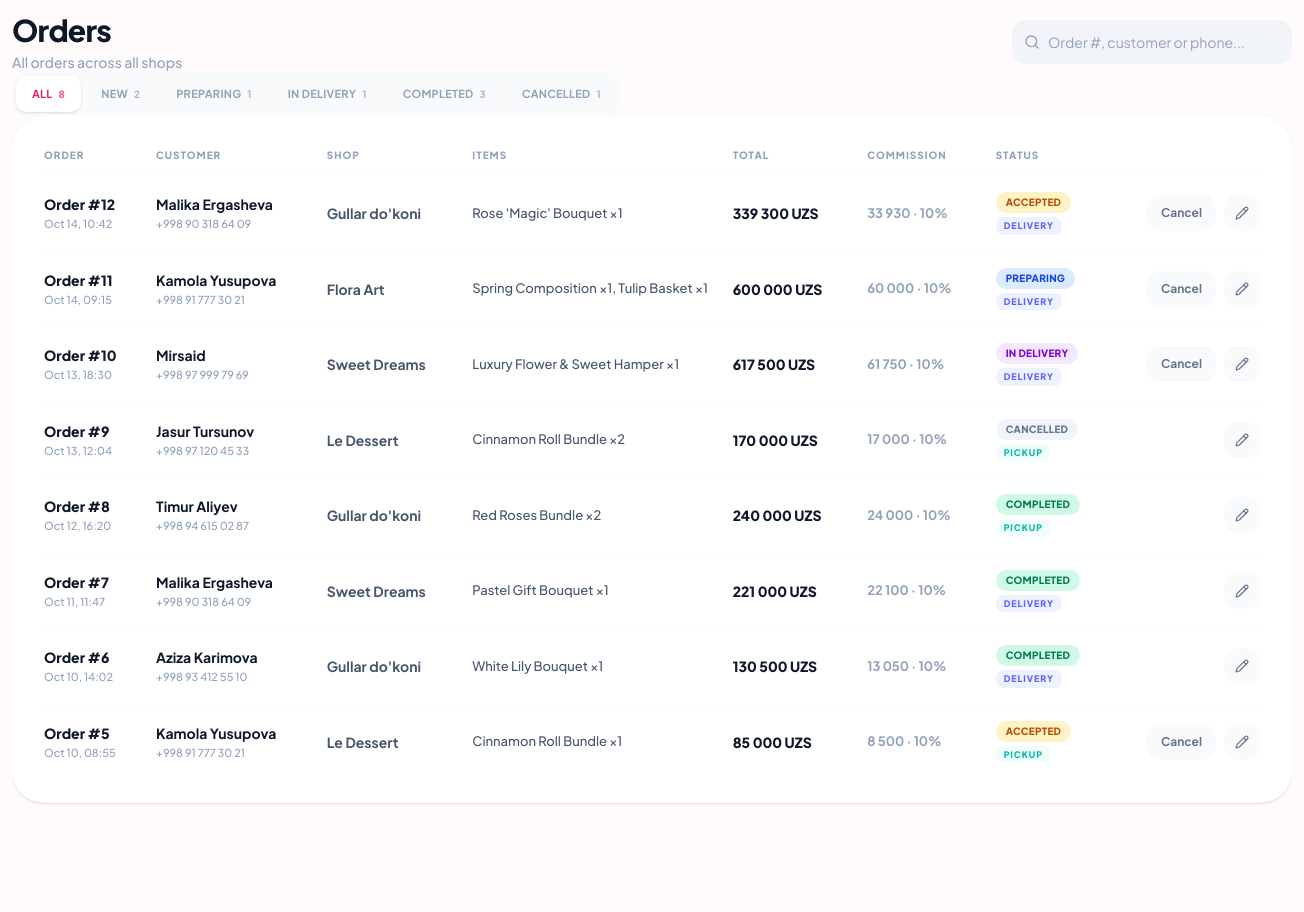
OrdersPage › searches by customer phone and filters by status tab
Expected: the text "Order #12" is shown, [44,195,115,213]
In the search field named "Search orders": (1152, 42) [1012,20,1292,64], type "777 30 21"
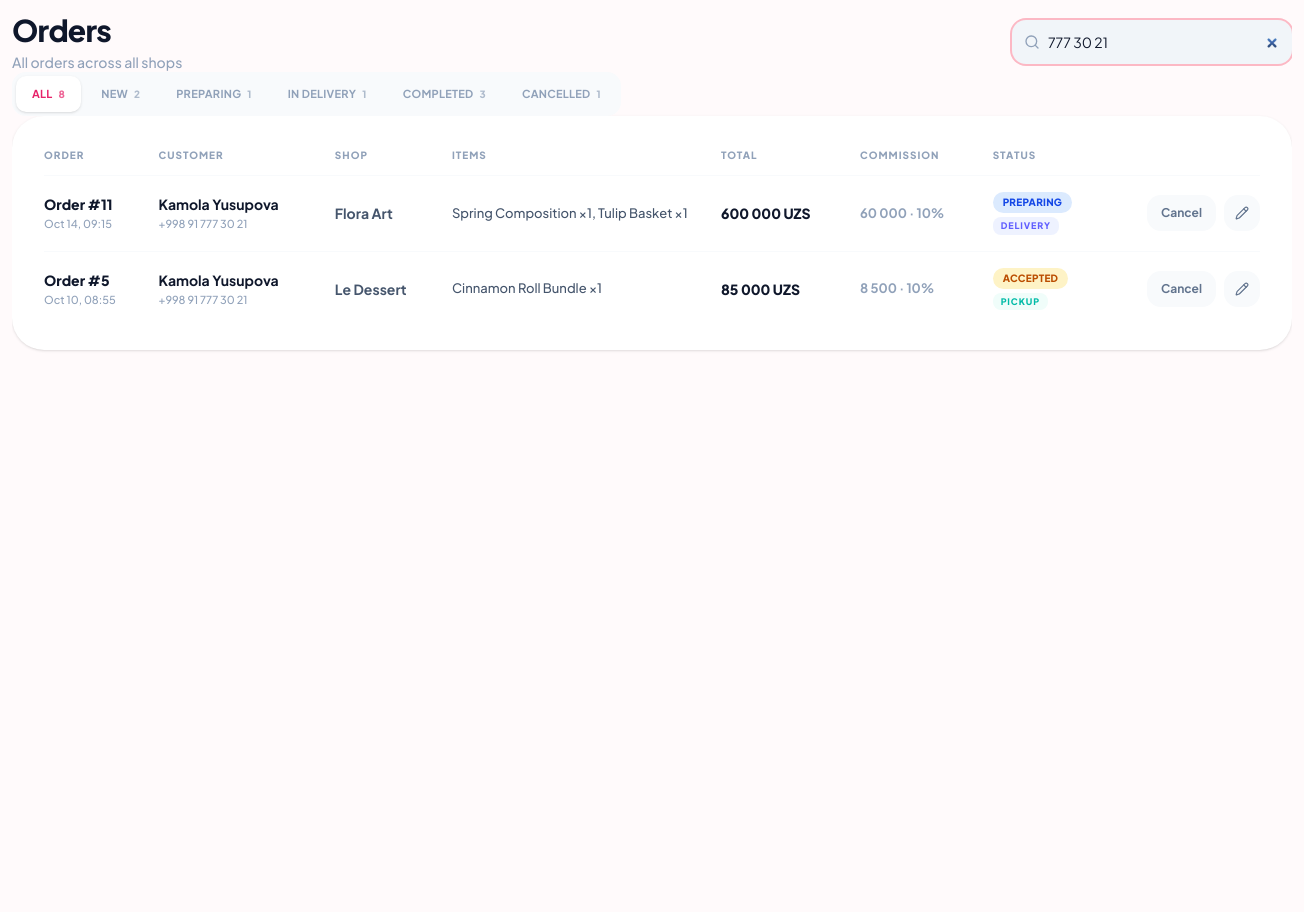
Expected: the text "Order #11" is shown, [44,195,112,213]
Expected: the text "Order #12" is gone
Click the tab "New 2": (121, 94) [85,76,156,112]
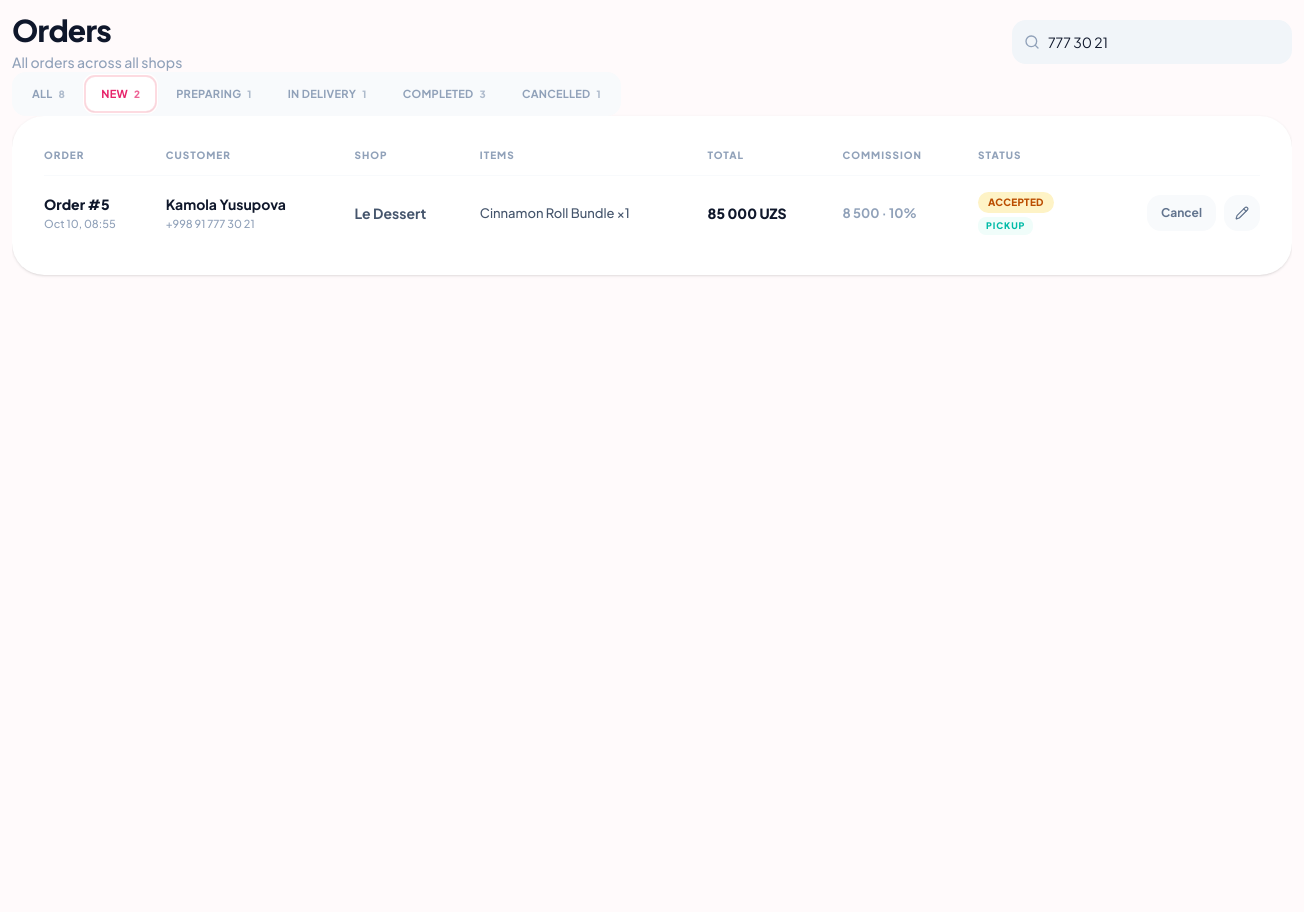
Expected: the text "Order #5" is shown, [44,195,110,213]
Expected: the text "Order #11" is gone
